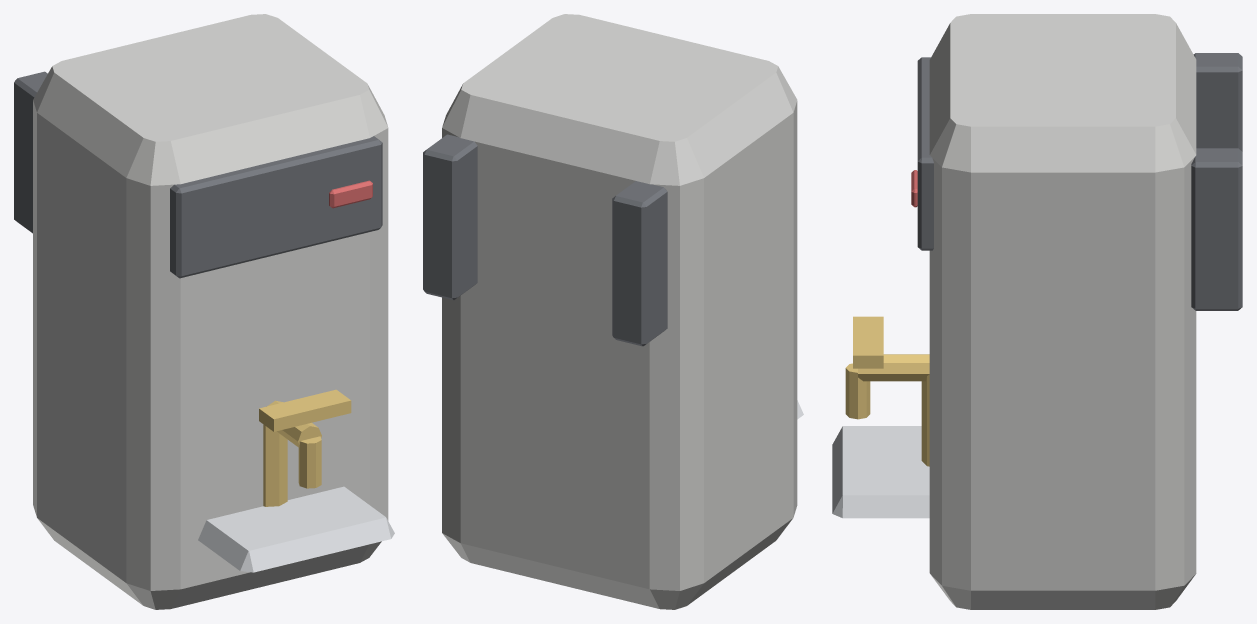
The picture shows the model from 3 angles, left to right: view 1: azimuth 30°, elevation 25°; view 2: azimuth 150°, elevation 25°; view 3: azimuth 270°, elevation 25°; orthographic projection. The views are drawn at different scales.
Visible parts, largest first — view 1: water-boiler; view 2: water-boiler; view 3: water-boiler.
Part boxes in pixels (x1=…): water-boiler: x1=14, y1=14, x2=394, y2=609; water-boiler: x1=423, y1=14, x2=803, y2=609; water-boiler: x1=832, y1=14, x2=1242, y2=609.
Bounding box in the file's own units: 0.3 × 0.52 × 0.4.
